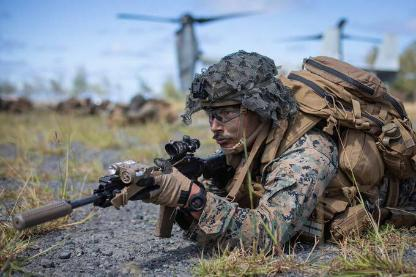Tornado: (113, 8, 401, 95)
